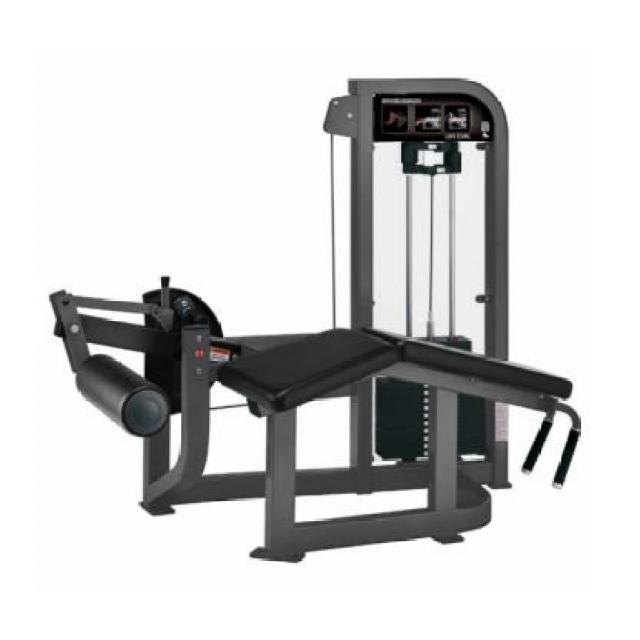reg curl machine: (46, 74, 586, 568)
